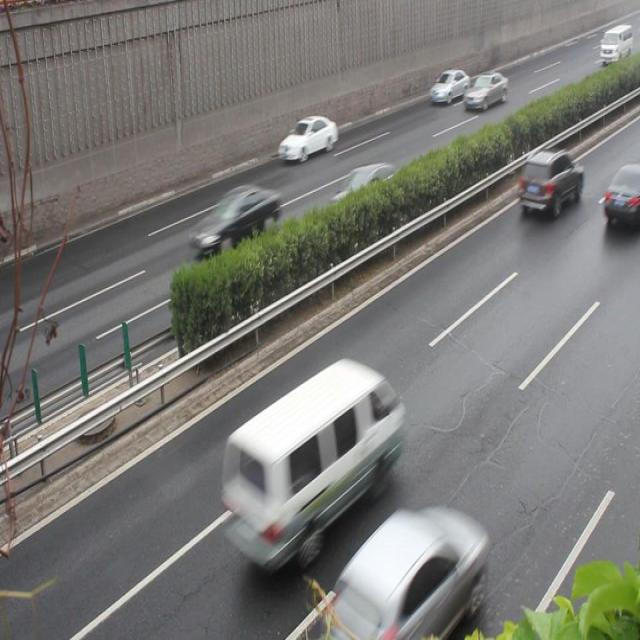car: (329, 504, 484, 639), (189, 182, 277, 252), (328, 162, 407, 222), (513, 144, 580, 214), (277, 115, 336, 162), (602, 162, 639, 226), (463, 70, 505, 110)
